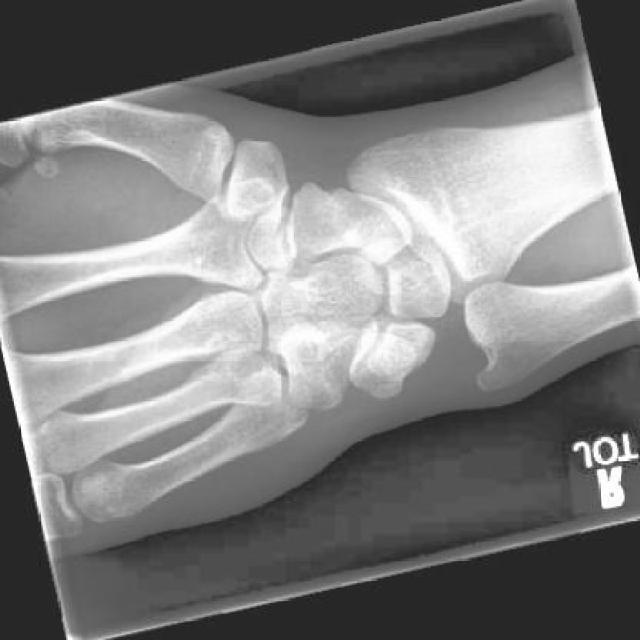Fracture: (316, 183, 370, 259)
